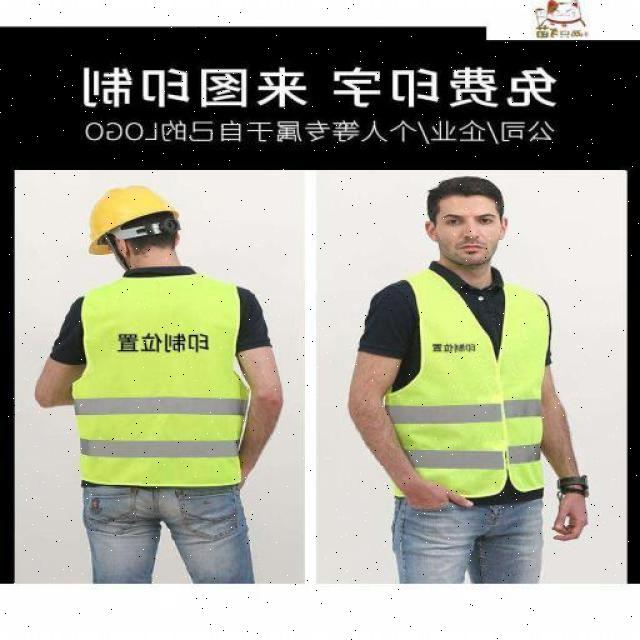Hard_hat: (83, 187, 185, 242)
Person: (29, 180, 290, 578), (346, 175, 560, 583)
Vest: (73, 269, 248, 494), (381, 267, 545, 501)
